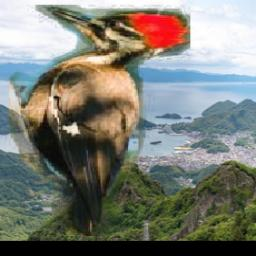Woodpecker: (3, 5, 189, 236)
